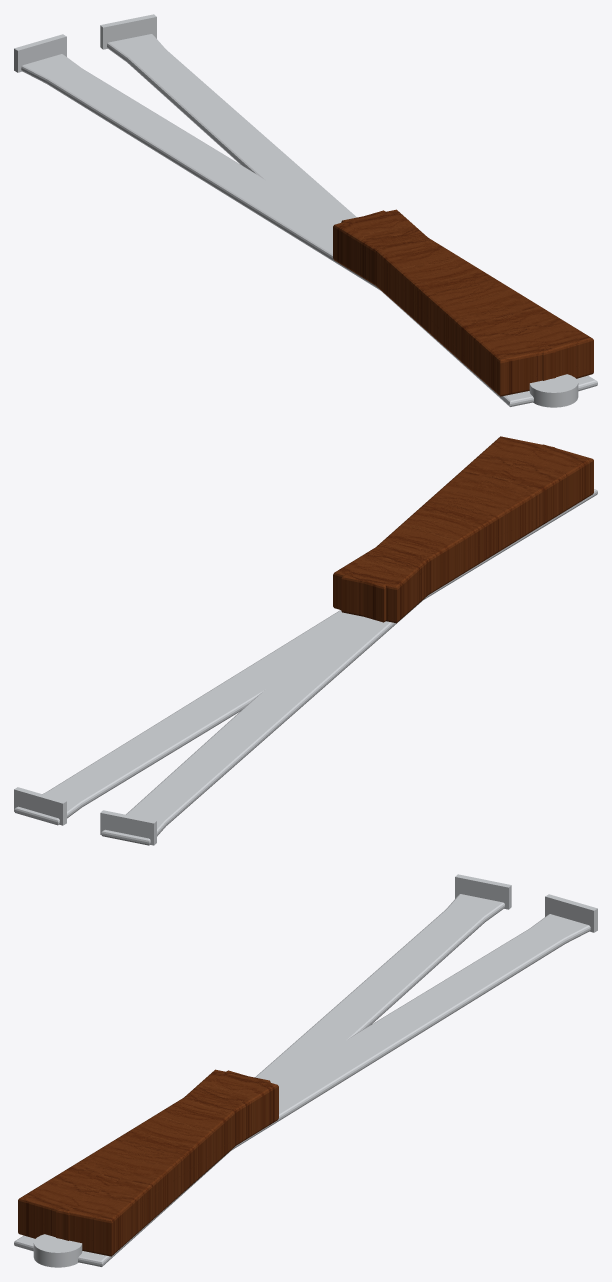
Rendered from CUB-39.glb.
The picture shows the model from 3 angles, top to bottom: view 1: azimuth 30°, elevation 25°; view 2: azimuth 150°, elevation 25°; view 3: azimuth 330°, elevation 25°; orthographic projection.
Size of the model in its own units: 0.0598 by 0.0175 by 0.3594.
2 materials, 1 textured.
